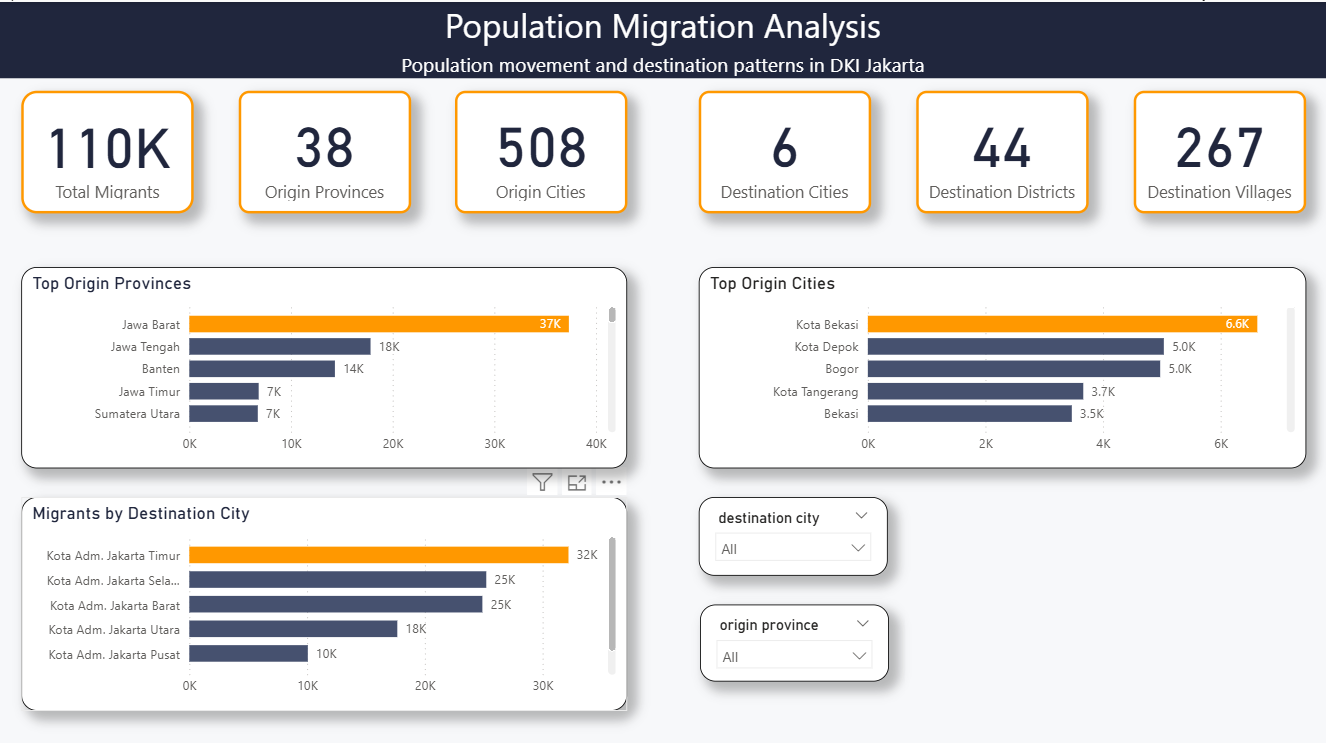

The dashboard page shown, as its layout file describes it:
{"tool":"powerbi","page":{"name":"Page 1","canvas":[1280,720],"ordinal":0},"visuals":[{"type":"textbox","title":"Population Migration Analysis","box":[0,0,1280,73.6],"z":0},{"type":"clusteredBarChart","title":"Migrants by Destination City","fields":{"Category":["pendatang_clean.destination_city"],"Y":["Sum(pendatang_clean.total_migrants)"]},"box":[20.5,477.8,585.1,206.3],"z":1000},{"type":"barChart","title":"Top Origin Provinces","fields":{"Category":["pendatang_clean.origin_province"],"Y":["Sum(pendatang_clean.total_migrants)"]},"box":[20.5,255.8,585.1,194.2],"z":2000},{"type":"barChart","title":"Top Origin Cities","fields":{"Category":["pendatang_clean.origin_city"],"Y":["Sum(pendatang_clean.total_migrants)"]},"box":[674.4,255.8,586.3,194.2],"z":3000},{"type":"slicer","fields":{"Values":["pendatang_clean.destination_city"]},"box":[674.4,477.8,182.2,76],"z":4000},{"type":"slicer","fields":{"Values":["pendatang_clean.origin_province"]},"box":[675.6,581.5,182.2,74.8],"z":5000},{"type":"card","fields":{"Values":["pendatang_clean.Total Migrants"]},"box":[20.5,85.7,166.5,118.2],"z":6000},{"type":"card","fields":{"Values":["pendatang_clean.Origin Provinces"]},"box":[230.4,85.7,166.5,118.2],"z":7000},{"type":"card","fields":{"Values":["pendatang_clean.Destination Cities"]},"box":[674.4,85.7,166.5,118.2],"z":8000},{"type":"card","fields":{"Values":["pendatang_clean.Destination Districts"]},"box":[884.3,85.7,166.5,118.2],"z":9000},{"type":"card","fields":{"Values":["pendatang_clean.Destination Villages"]},"box":[1094.2,85.7,166.5,118.2],"z":10000},{"type":"card","fields":{"Values":["pendatang_clean.Origin Cities"]},"box":[439.1,85.7,166.5,118.2],"z":11000}]}

Visuals, with their boxes in screenshot pixels (x1, y1, x2, y2), scaled from the page's 1280x720 canvas onto the 1326x743 screenshot:
"Population Migration Analysis" textbox: box(0, 0, 1325, 76)
"Migrants by Destination City" clusteredBarChart: box(21, 493, 627, 706)
"Top Origin Provinces" barChart: box(21, 264, 627, 464)
"Top Origin Cities" barChart: box(699, 264, 1306, 464)
slicer - pendatang_clean.destination_city: box(699, 493, 887, 571)
slicer - pendatang_clean.origin_province: box(700, 600, 889, 677)
card - pendatang_clean.Total Migrants: box(21, 88, 194, 210)
card - pendatang_clean.Origin Provinces: box(239, 88, 411, 210)
card - pendatang_clean.Destination Cities: box(699, 88, 871, 210)
card - pendatang_clean.Destination Districts: box(916, 88, 1089, 210)
card - pendatang_clean.Destination Villages: box(1134, 88, 1306, 210)
card - pendatang_clean.Origin Cities: box(455, 88, 627, 210)
